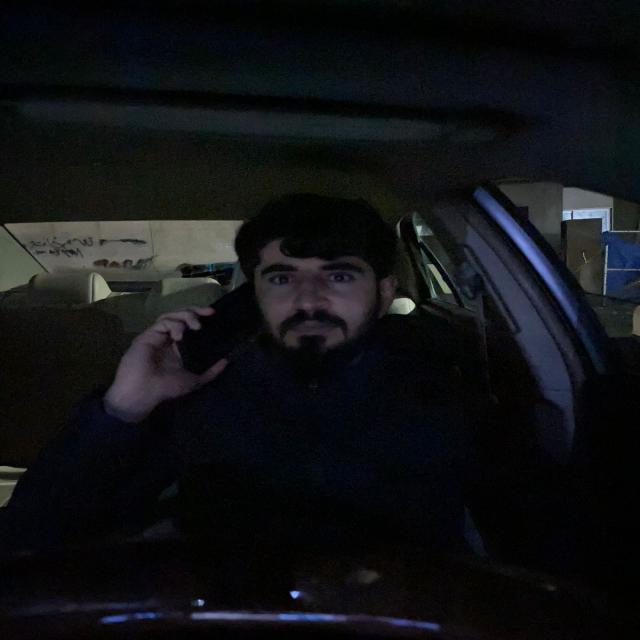mobile: (172, 278, 260, 378)
person: (234, 194, 410, 366)
